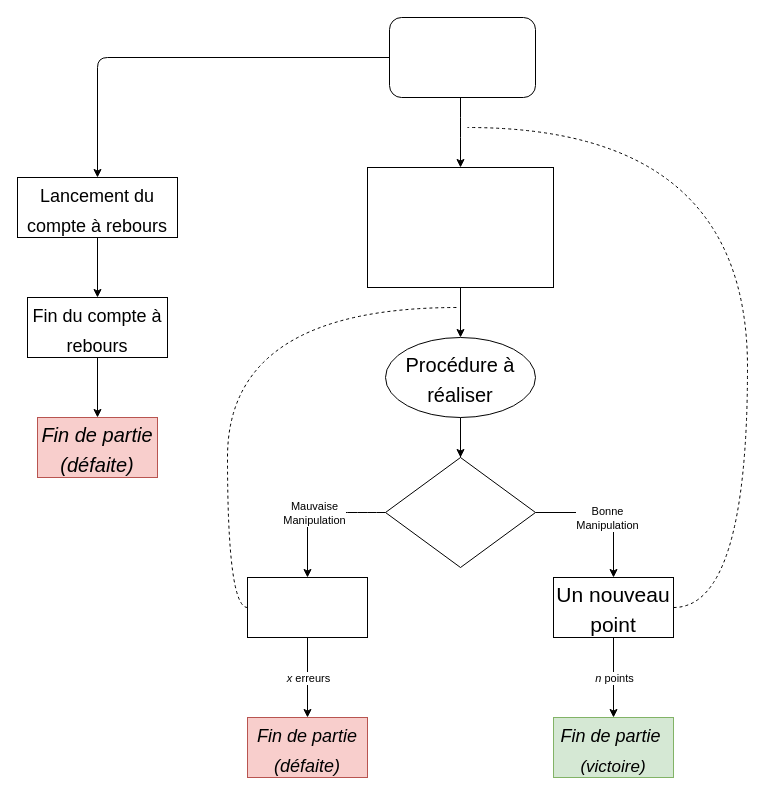
This 765x795 diagram has some shape labels left out. The shapes that lost their labels are listed below. From the top down, each one's centre as x and y in pixels, then its label:
At (462,57): "START".
At (460,227): "Choix aléatoire d'une procédure prédéfinie (sauf celles déjà jouées)".
At (460,512): "Validation procédure".
At (307,607): "Ajout d'une erreur".
